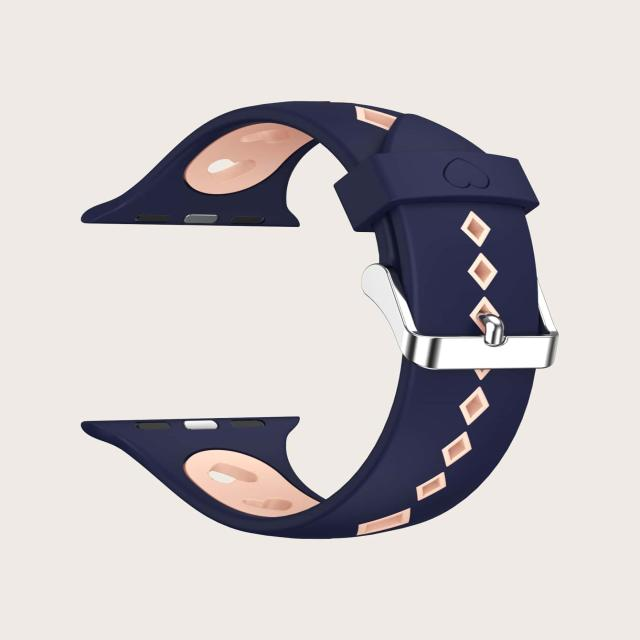bracelet: (42, 68, 618, 587)
